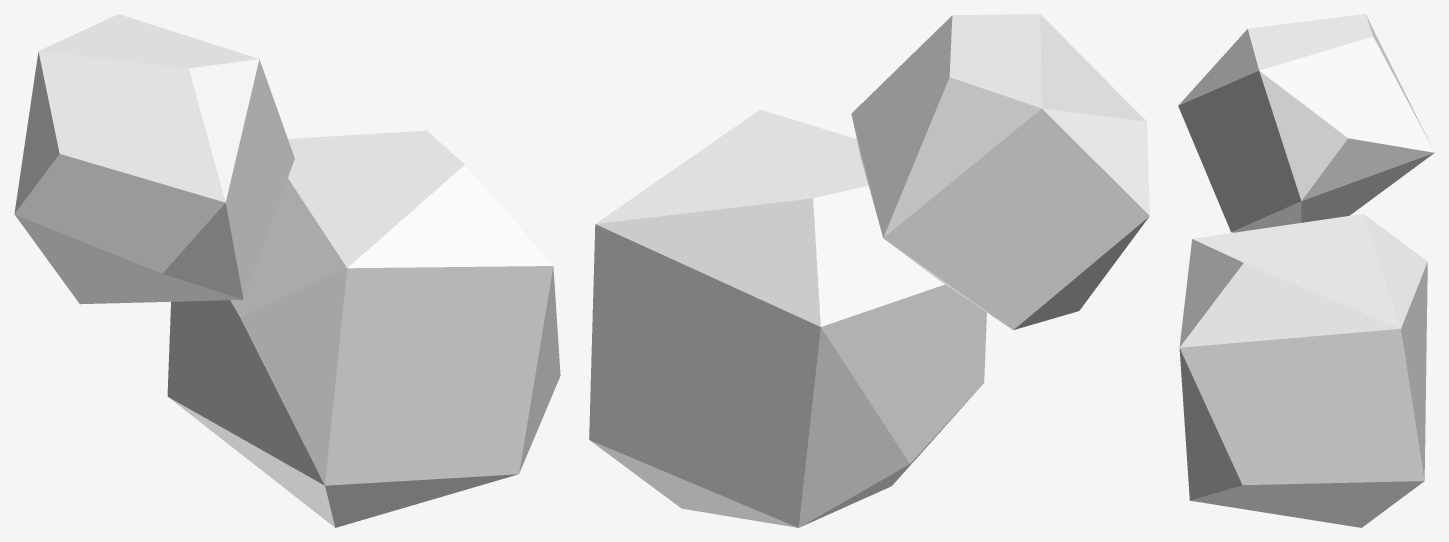
File: Cloud_v15.fbx
3 views of the same model, side by side, from view 1: azimuth 30°, elevation 25°; view 2: azimuth 150°, elevation 25°; view 3: azimuth 270°, elevation 25° (orthographic). The views are drawn at different scales.
Visible parts, largest first — view 1: Cloud_v15; view 2: Cloud_v15; view 3: Cloud_v15.
Part boxes in pixels (x1,y1,x2,y2): Cloud_v15: (14, 14, 560, 527); Cloud_v15: (589, 14, 1149, 527); Cloud_v15: (1178, 14, 1434, 527).
Size of the model in its own units: 12.2 by 11.32 by 6.71.
1 material, 1 textured.
